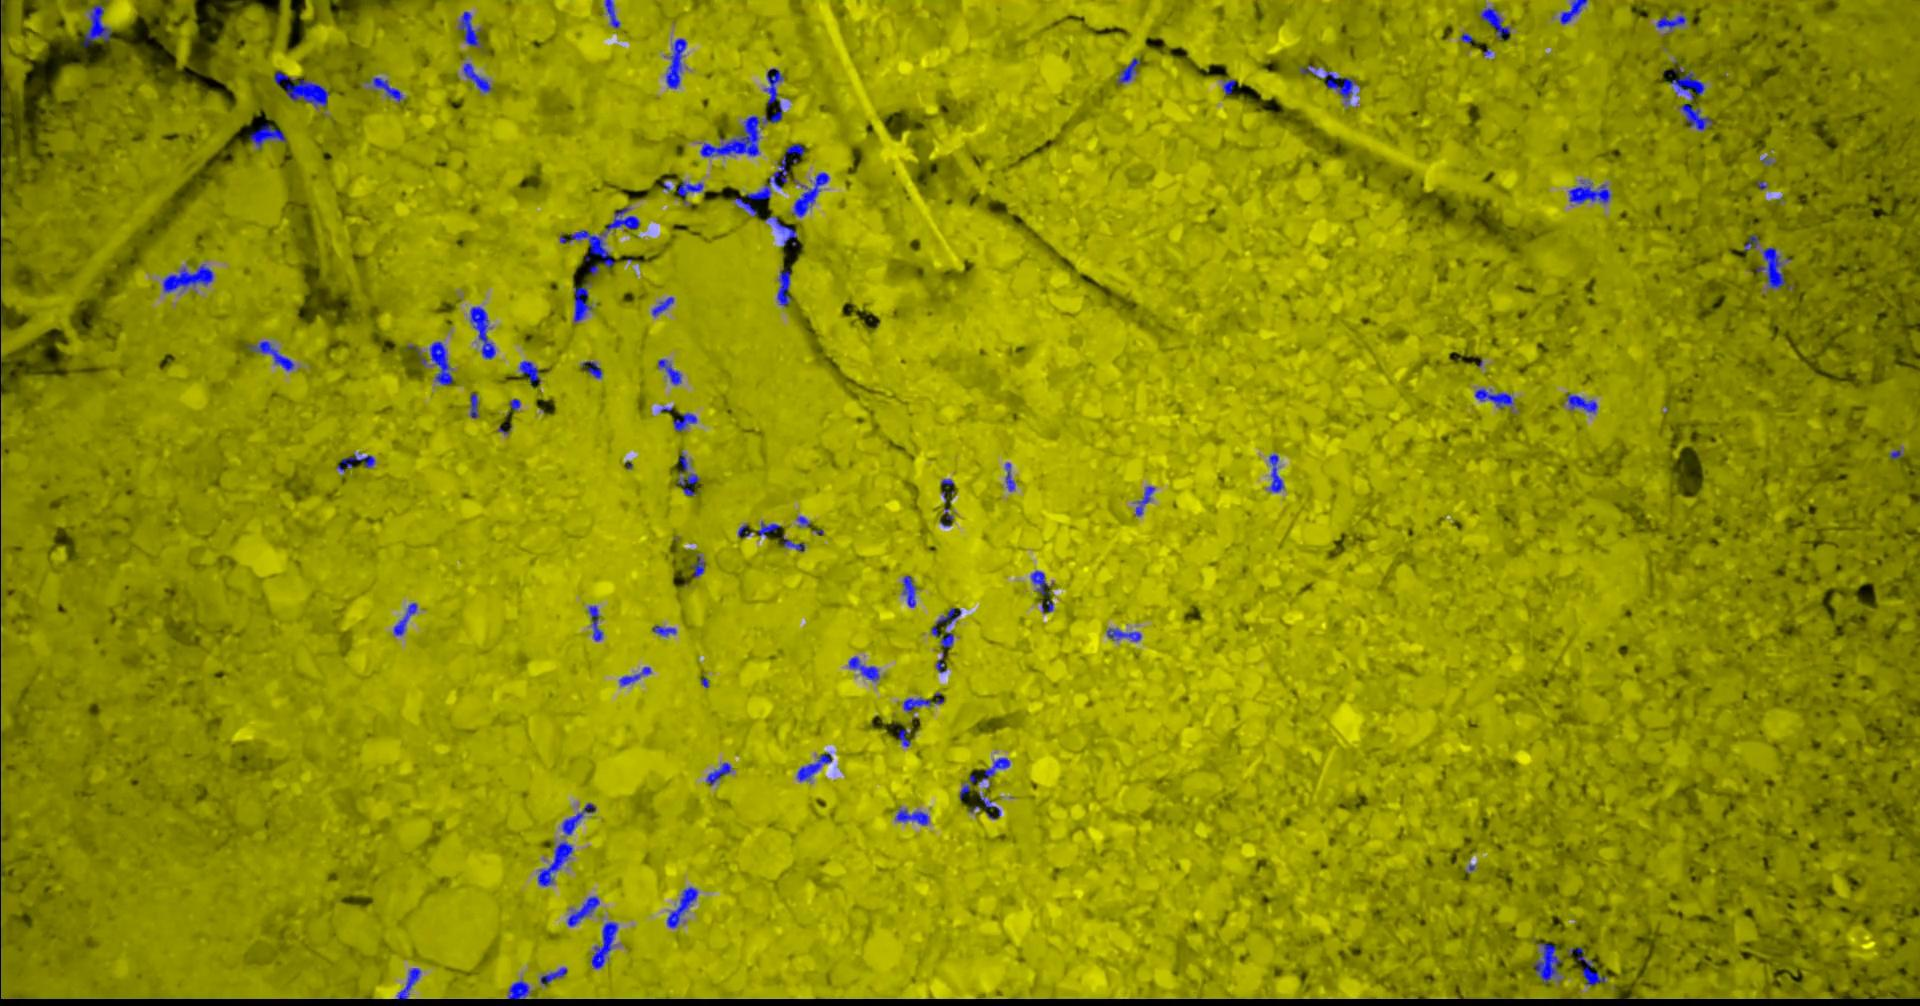ant: (559, 207, 639, 267), (734, 155, 787, 215), (273, 71, 328, 107), (792, 171, 828, 216), (537, 841, 571, 887), (163, 263, 213, 292), (1567, 946, 1605, 984), (469, 306, 495, 358), (248, 340, 293, 370), (665, 887, 697, 927), (1755, 246, 1785, 288), (590, 921, 617, 968), (83, 4, 110, 47), (1531, 942, 1561, 983), (1319, 70, 1355, 102), (561, 801, 594, 835), (429, 340, 452, 385), (665, 38, 686, 88), (566, 895, 599, 926), (1670, 71, 1704, 100), (1479, 6, 1509, 39), (1568, 180, 1610, 203), (766, 216, 796, 246), (248, 124, 286, 149), (796, 753, 830, 780), (930, 607, 960, 636), (1679, 103, 1712, 130), (458, 11, 481, 48), (463, 62, 491, 91), (392, 602, 417, 635), (1474, 387, 1512, 408), (903, 692, 943, 711), (397, 967, 420, 1000), (372, 77, 403, 102), (848, 655, 879, 680), (764, 69, 783, 105), (573, 282, 590, 321), (337, 453, 375, 471), (1559, 0, 1587, 24), (657, 358, 681, 384), (1566, 392, 1597, 412), (618, 666, 650, 685), (982, 757, 1010, 779), (776, 268, 791, 306), (1267, 453, 1283, 492), (706, 762, 731, 785), (676, 180, 702, 202), (1117, 57, 1139, 83), (519, 359, 540, 386), (587, 605, 602, 640), (1135, 486, 1154, 514), (1655, 14, 1686, 30), (978, 793, 1001, 815), (894, 809, 928, 824), (1106, 627, 1142, 641), (677, 473, 698, 495), (1030, 570, 1050, 594), (540, 967, 566, 984), (672, 412, 696, 431), (902, 575, 916, 607), (651, 296, 673, 316), (778, 535, 804, 550), (507, 981, 528, 998), (757, 521, 780, 537), (604, 0, 618, 27), (582, 359, 601, 379), (1004, 462, 1015, 492), (691, 554, 703, 577), (651, 625, 676, 636), (897, 728, 910, 746), (1743, 234, 1757, 250), (1299, 64, 1317, 76), (469, 392, 477, 418), (940, 508, 952, 526), (785, 144, 804, 155), (1222, 79, 1236, 94), (935, 652, 945, 672), (940, 631, 952, 647), (678, 452, 687, 473), (1041, 600, 1051, 611)
